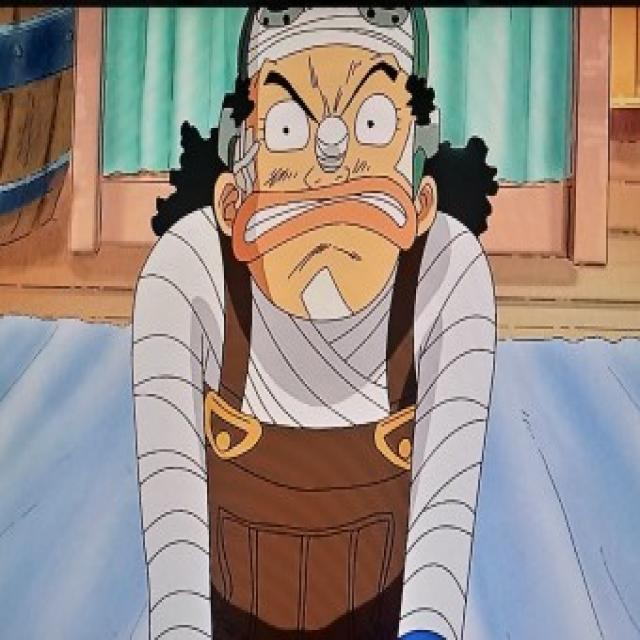Usopp: (207, 0, 461, 329)
